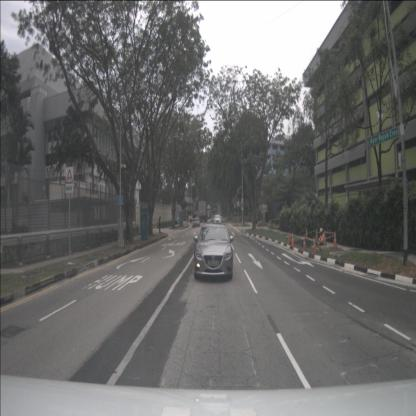cone: (332, 232, 338, 248), (313, 236, 317, 254), (303, 234, 307, 250), (291, 233, 295, 248), (314, 228, 318, 242), (287, 231, 291, 243), (305, 228, 308, 240)
